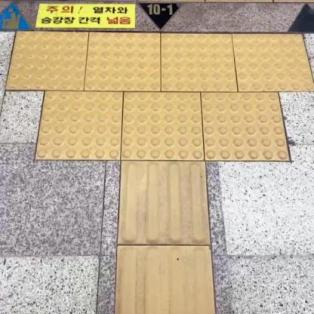Podoctatil: (4, 32, 314, 92), (34, 92, 285, 162), (118, 164, 214, 314)
